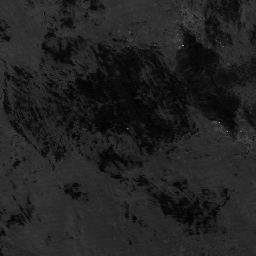Target: (124, 126, 129, 131)
